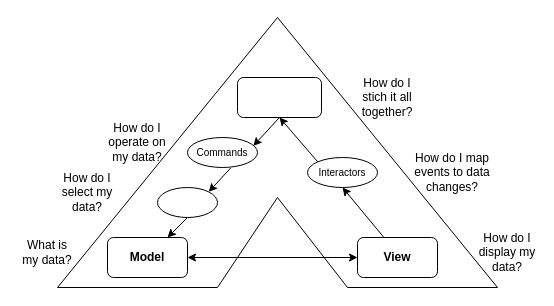
Some shapes in this 554 by 306 pixel diagram are drawn without their labels. Here are the shapes that lost their labels. From the top down, the centre of each, then its label:
pixel 279 97: Presenter
pixel 187 202: Selections
